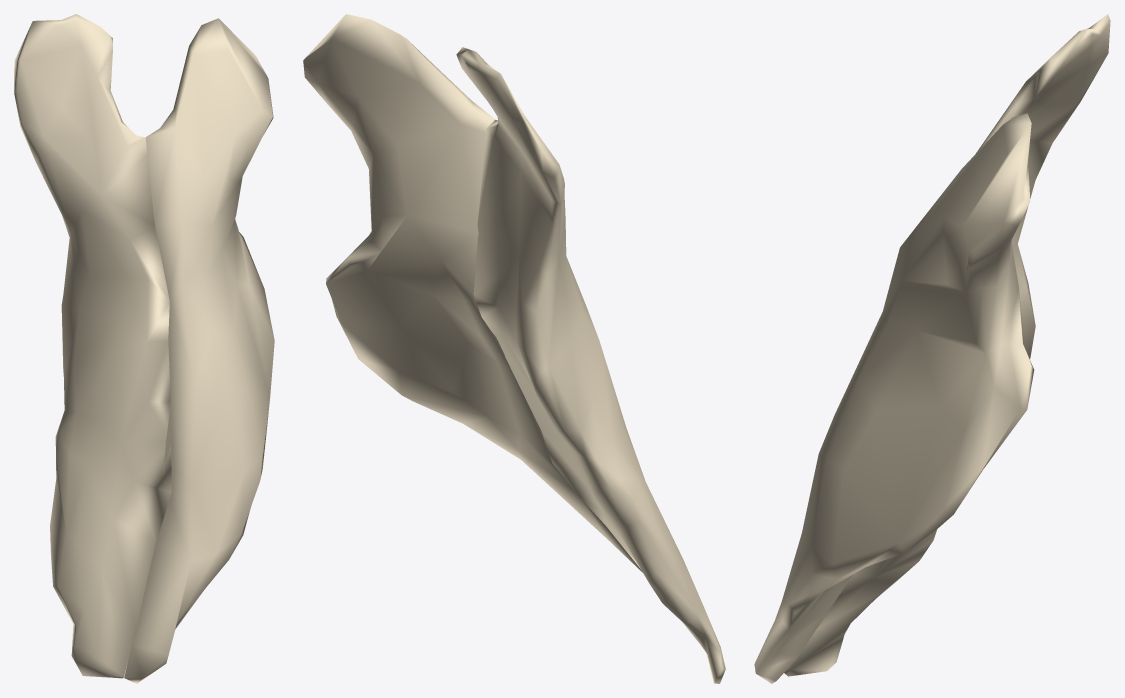
Rendered from vh_m_thymus-20.glb.
3 renders of one model, left to right at view 1: azimuth 30°, elevation 25°; view 2: azimuth 150°, elevation 25°; view 3: azimuth 270°, elevation 25°, orthographic. The views are drawn at different scales.
Parts seen in each view (by area): view 1: VH_M_thymus_lobe_L, VH_M_thymus_lobe_R; view 2: VH_M_thymus_lobe_R, VH_M_thymus_lobe_L; view 3: VH_M_thymus_lobe_R, VH_M_thymus_lobe_L.
Boxes of the visible parts, x1=… form: VH_M_thymus_lobe_L: x1=14, y1=14, x2=171, y2=678; VH_M_thymus_lobe_R: x1=124, y1=18, x2=274, y2=683; VH_M_thymus_lobe_R: x1=303, y1=14, x2=642, y2=572; VH_M_thymus_lobe_L: x1=456, y1=47, x2=725, y2=683; VH_M_thymus_lobe_R: x1=754, y1=113, x2=1034, y2=683; VH_M_thymus_lobe_L: x1=784, y1=14, x2=1110, y2=676.
Bounding box in the file's own units: 0.0369 × 0.0758 × 0.035.
